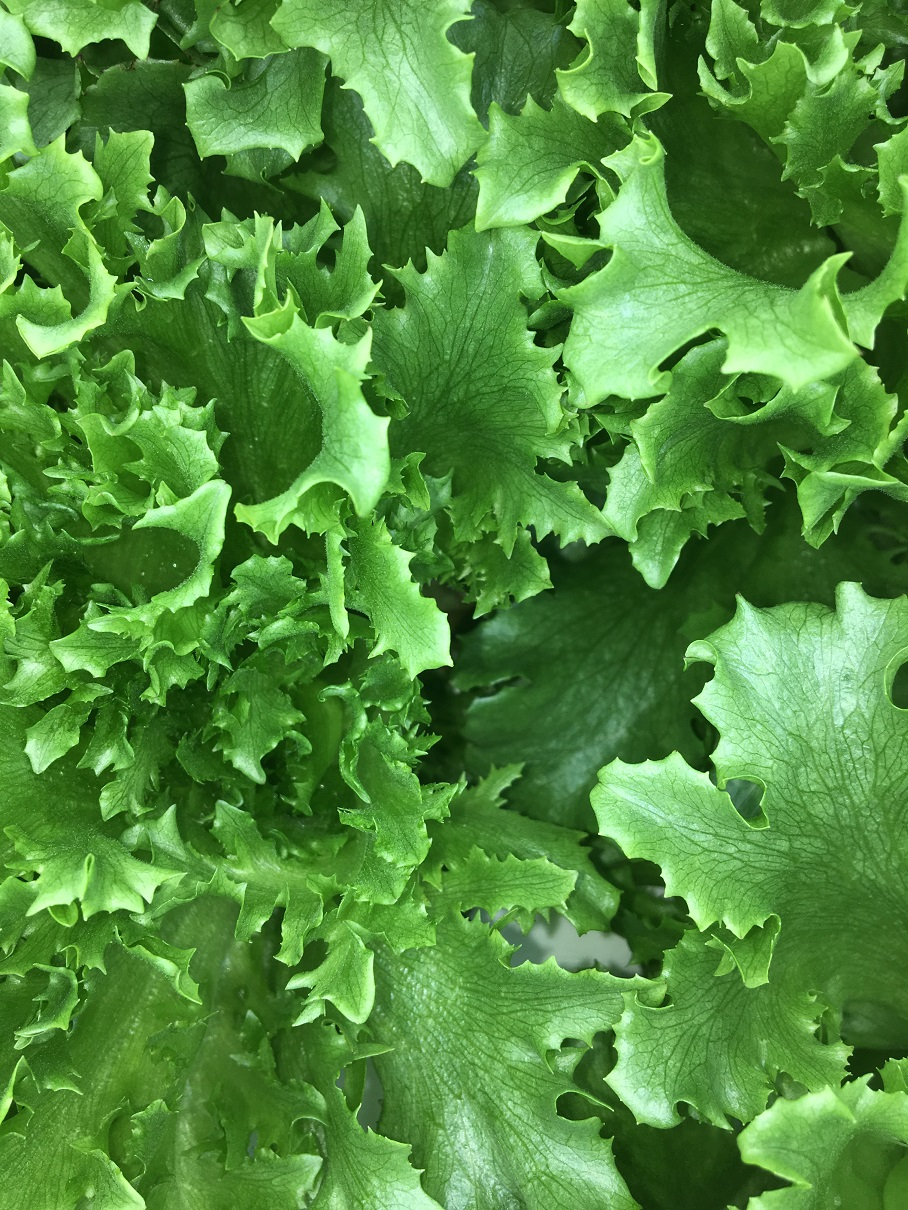tipburn: (64, 46, 99, 76), (111, 53, 142, 81)
